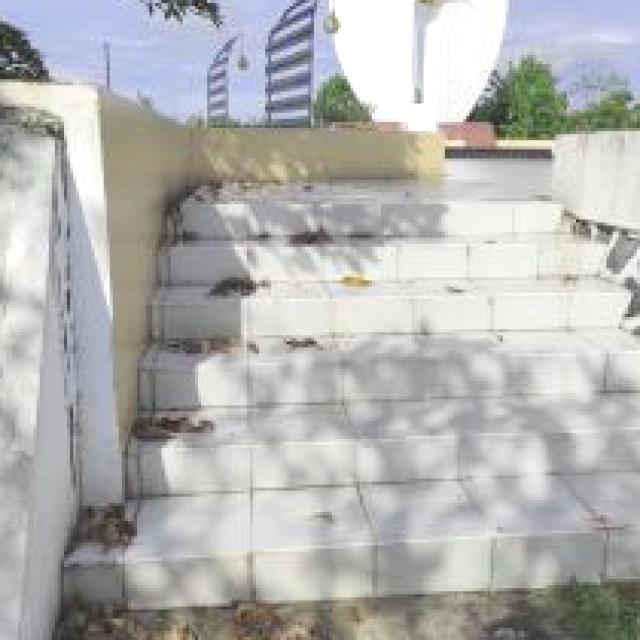upstair: (144, 168, 640, 640)
